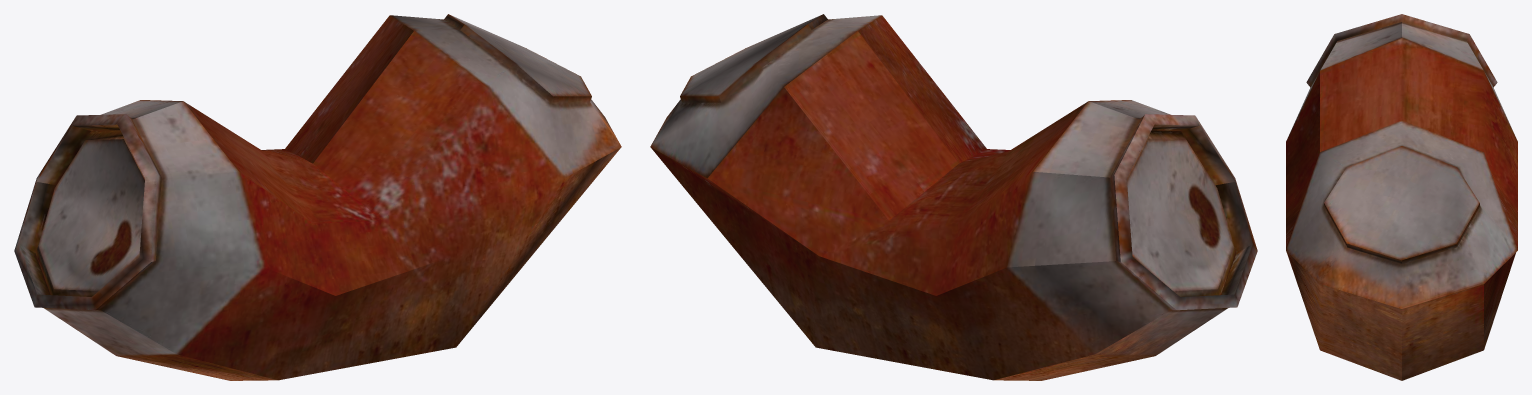
File: crumpled_can_01.glb
The picture shows the model from 3 angles, left to right: view 1: azimuth 30°, elevation 25°; view 2: azimuth 150°, elevation 25°; view 3: azimuth 270°, elevation 25°; orthographic projection. The views are drawn at different scales.
Visible parts, largest first — view 1: crumpled_can_01; view 2: crumpled_can_01; view 3: crumpled_can_01.
Part boxes in pixels (x1,y1,x2,y2): crumpled_can_01: [14, 14, 621, 380]; crumpled_can_01: [650, 14, 1257, 380]; crumpled_can_01: [1286, 14, 1517, 380].
Size of what is drawn, in the model's own units: 0.1953 by 0.0999 by 0.0823.
1 material, 1 textured.
